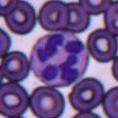N: (29, 32, 88, 86)
